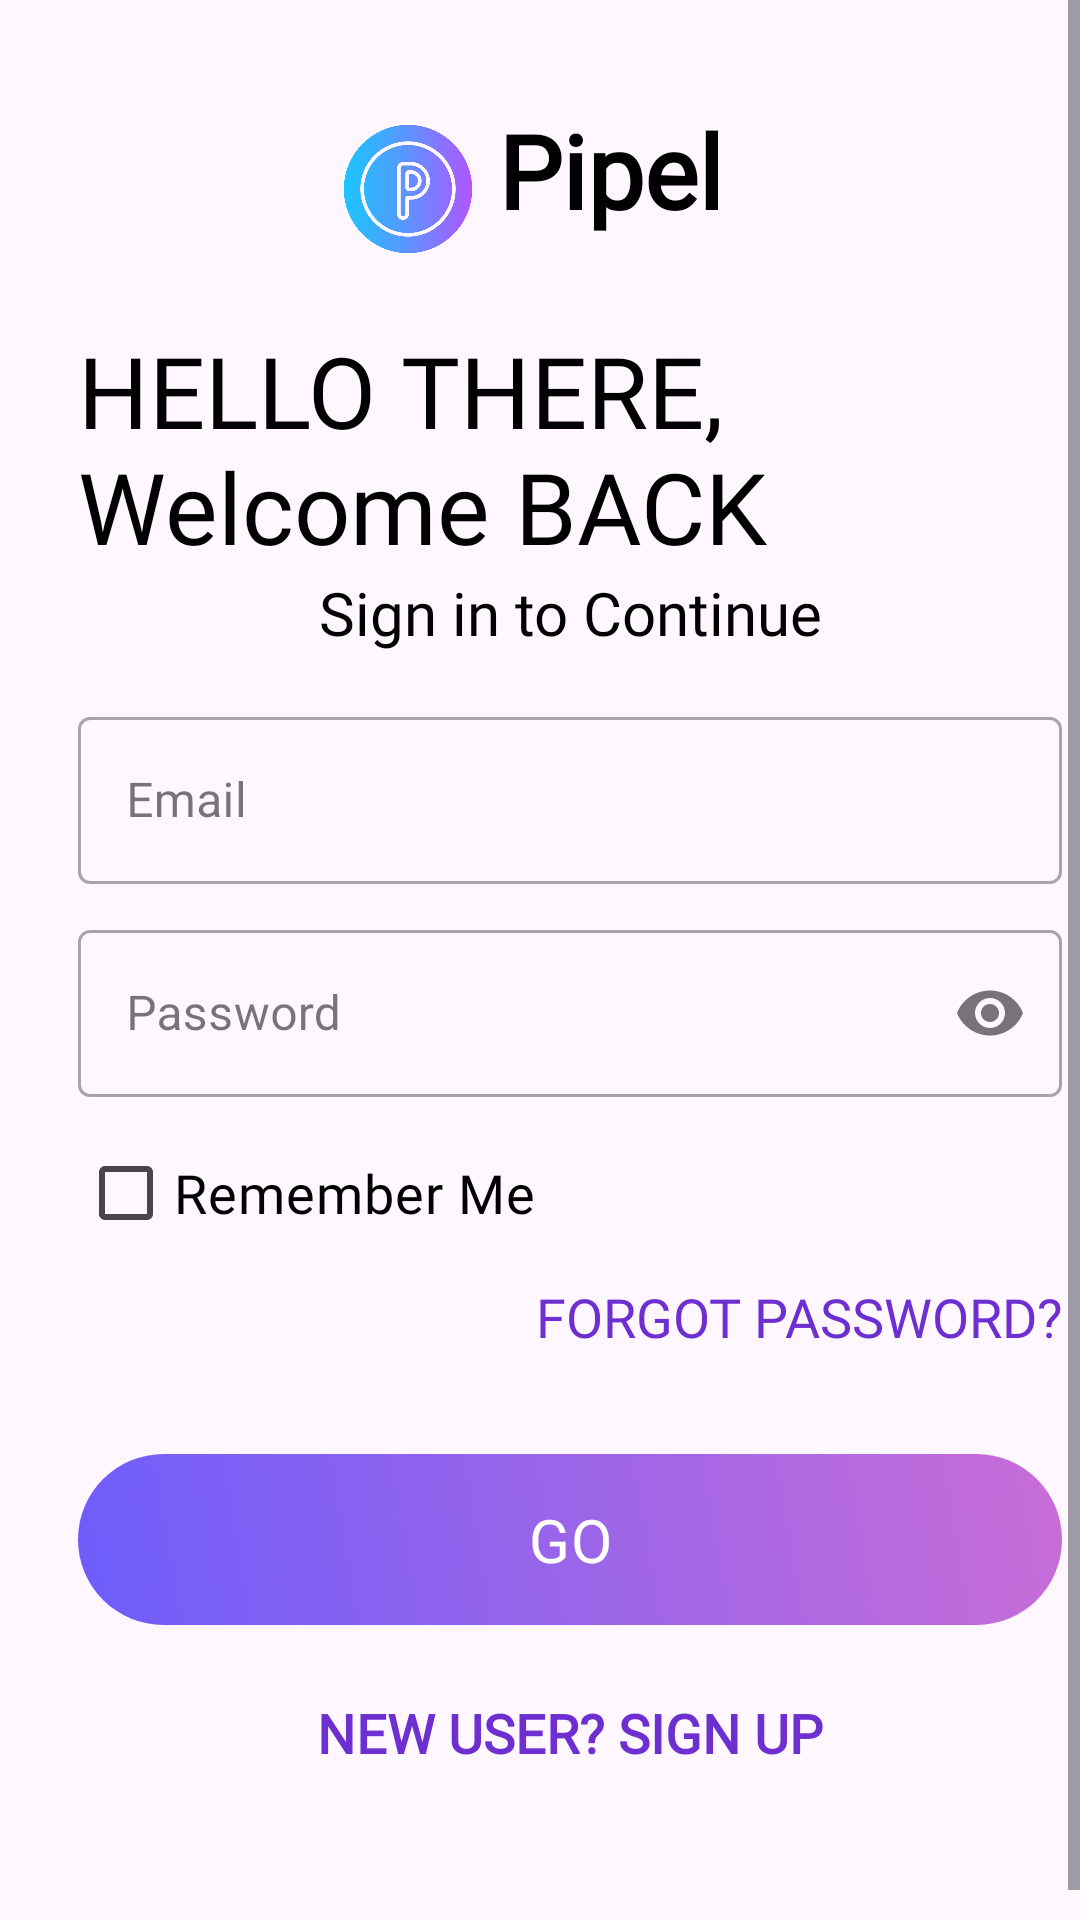

Where icons sit on this 1080×1920 app screen, as (x1, y1, x2, y2):
parking: (344, 125, 472, 253)
